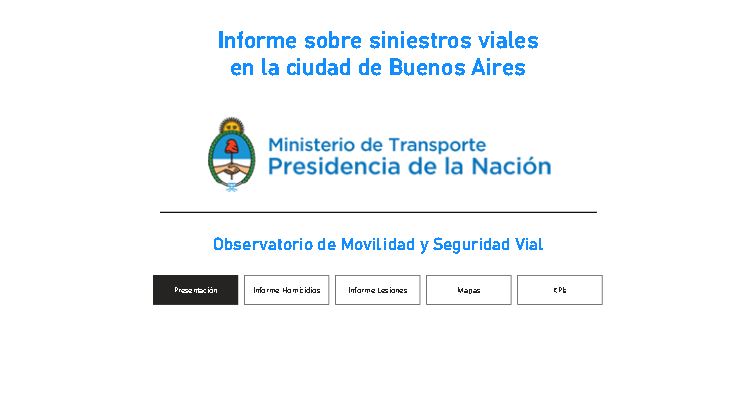

The page's visual inventory and layout, read from the dashboard file:
{"tool":"powerbi","page":{"name":"Presentación","canvas":[1280,720],"ordinal":0},"visuals":[{"type":"image","box":[288.2,57.4,702.9,442.6],"z":0},{"type":"shape","box":[272.1,236.8,733.8,263.2],"z":1000},{"type":"textbox","box":[338.2,400,601.5,173.5],"z":2000},{"type":"textbox","box":[338.2,51.5,601.5,105.9],"z":3000},{"type":"pageNavigator","box":[414.7,475,450,50],"z":4000}]}

Visuals, with their boxes in screenshot pixels (x1, y1, x2, y2), scaled from the page's 1280x720 canvas onto the 756x415 screenshot:
image: x1=170, y1=33, x2=585, y2=288
shape: x1=161, y1=136, x2=594, y2=288
textbox: x1=200, y1=231, x2=555, y2=331
textbox: x1=200, y1=30, x2=555, y2=91
pageNavigator: x1=245, y1=274, x2=511, y2=303
